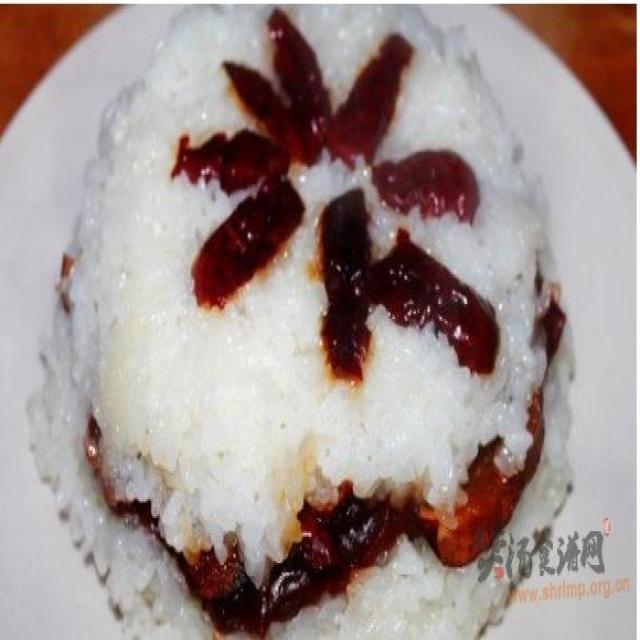米饭主食: (18, 9, 611, 625)
